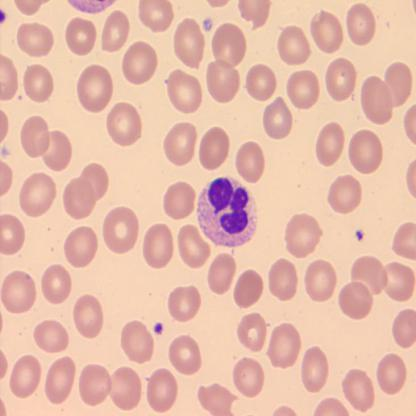Segmented neutrophil: (195, 173, 259, 251)
